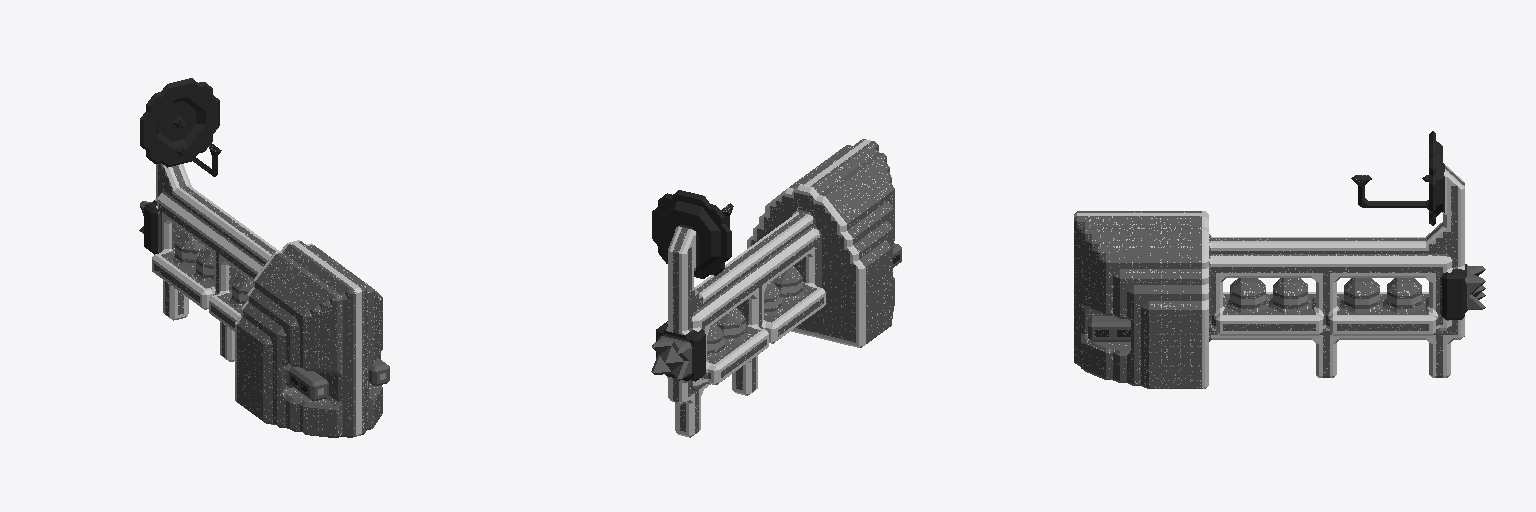
3 views of the same model, side by side, from view 1: azimuth 30°, elevation 25°; view 2: azimuth 150°, elevation 25°; view 3: azimuth 270°, elevation 25° (orthographic).
Size of the model in its own units: 19 by 37 by 58.
Materials: 1 (1 with a texture image).